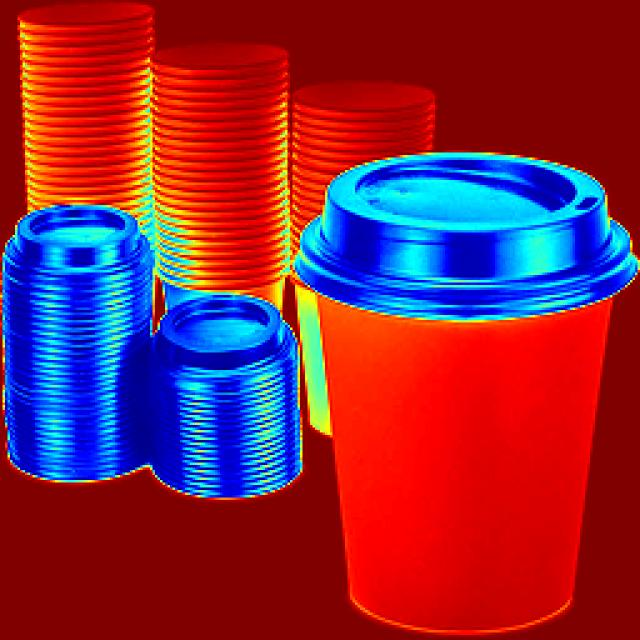Paper Cups: (9, 6, 622, 634)
